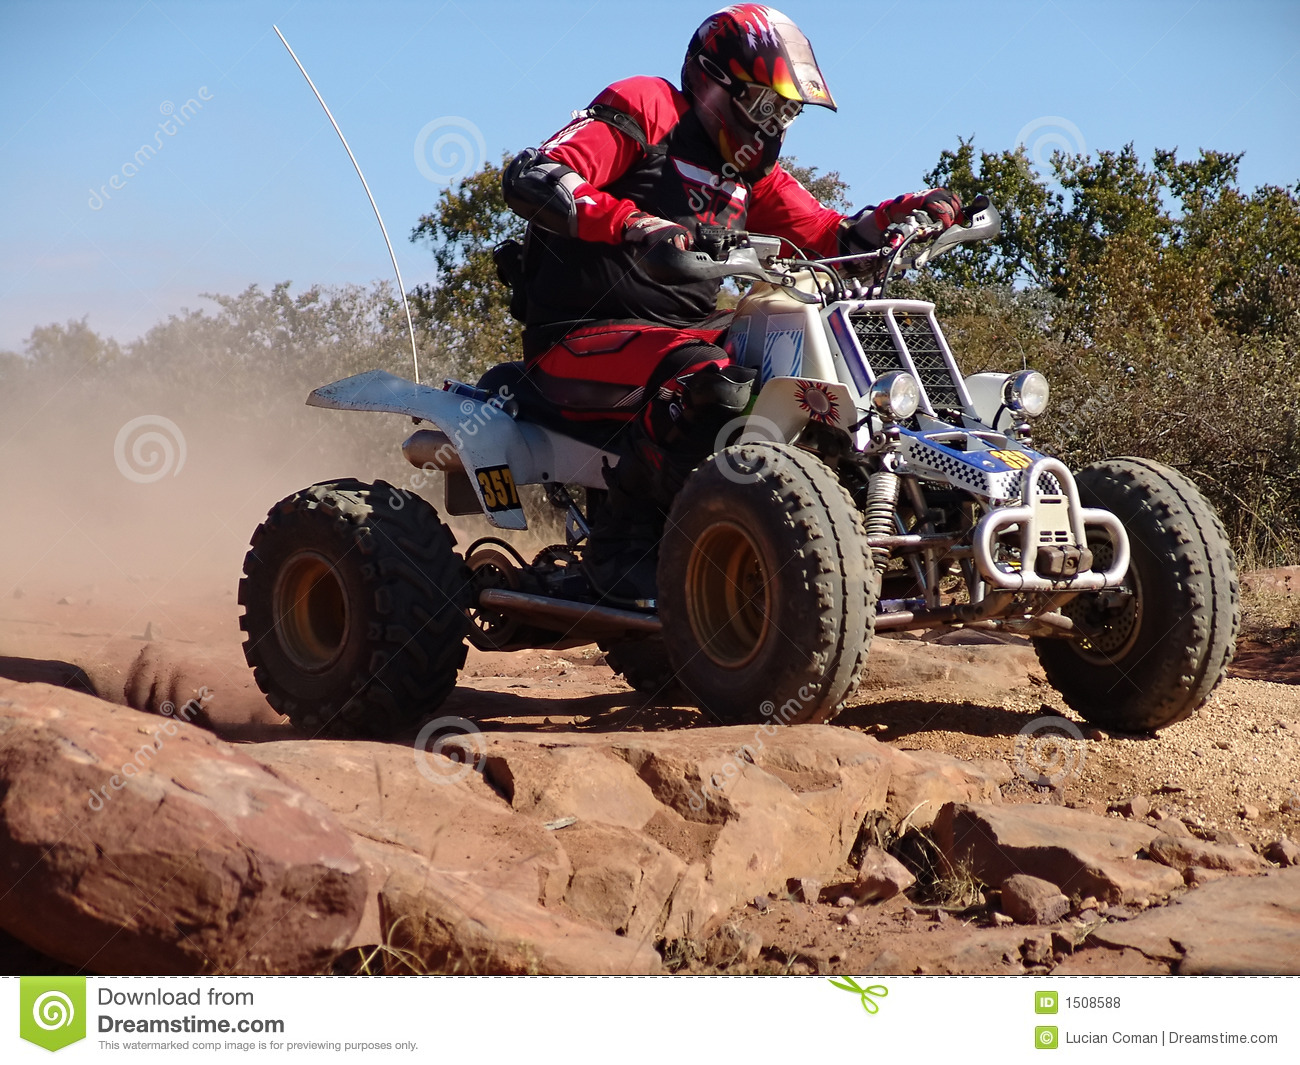helmet: (672, 1, 838, 162)
